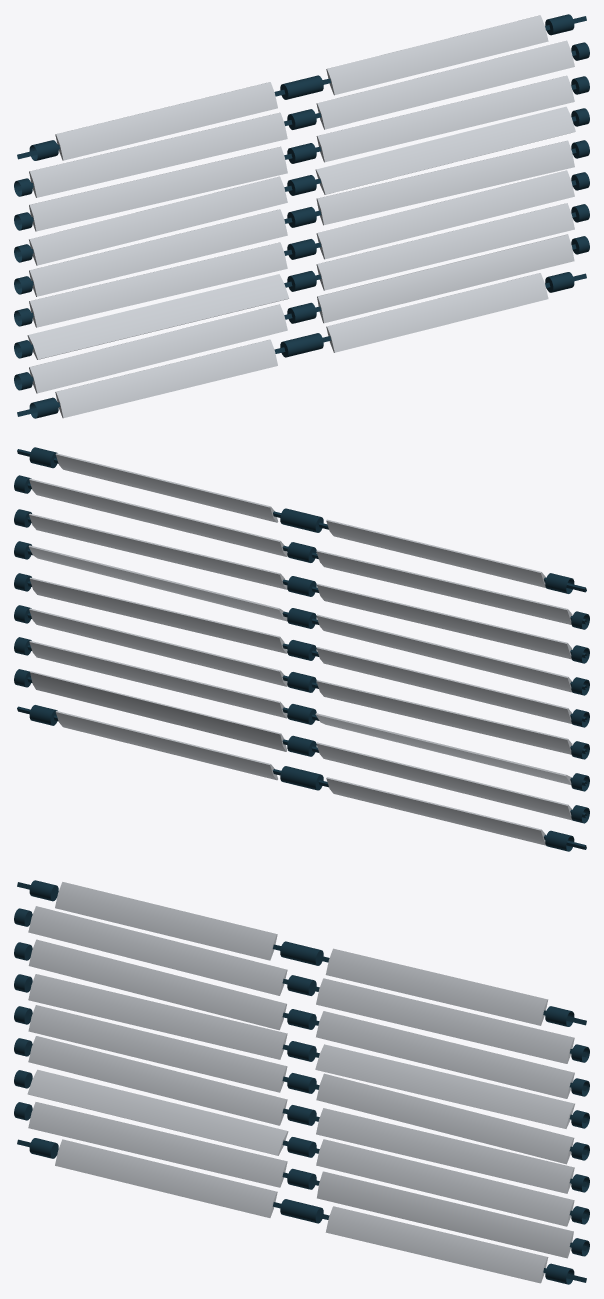
File: W1_WallWindow1_4m_Shutters.fbx
3 renders of one model, top to bottom at view 1: azimuth 30°, elevation 25°; view 2: azimuth 150°, elevation 25°; view 3: azimuth 330°, elevation 25°, orthographic.
Visible parts, largest first — view 1: W1_WallWindow1_4m_Shutters.001; view 2: W1_WallWindow1_4m_Shutters.001; view 3: W1_WallWindow1_4m_Shutters.001.
Boxes of the visible parts, <box> form: W1_WallWindow1_4m_Shutters.001: <box>14,14,589,418</box>; W1_WallWindow1_4m_Shutters.001: <box>14,447,589,851</box>; W1_WallWindow1_4m_Shutters.001: <box>14,880,589,1284</box>.
Bounding box in the file's own units: 3.52 × 1.66 × 0.1186.
